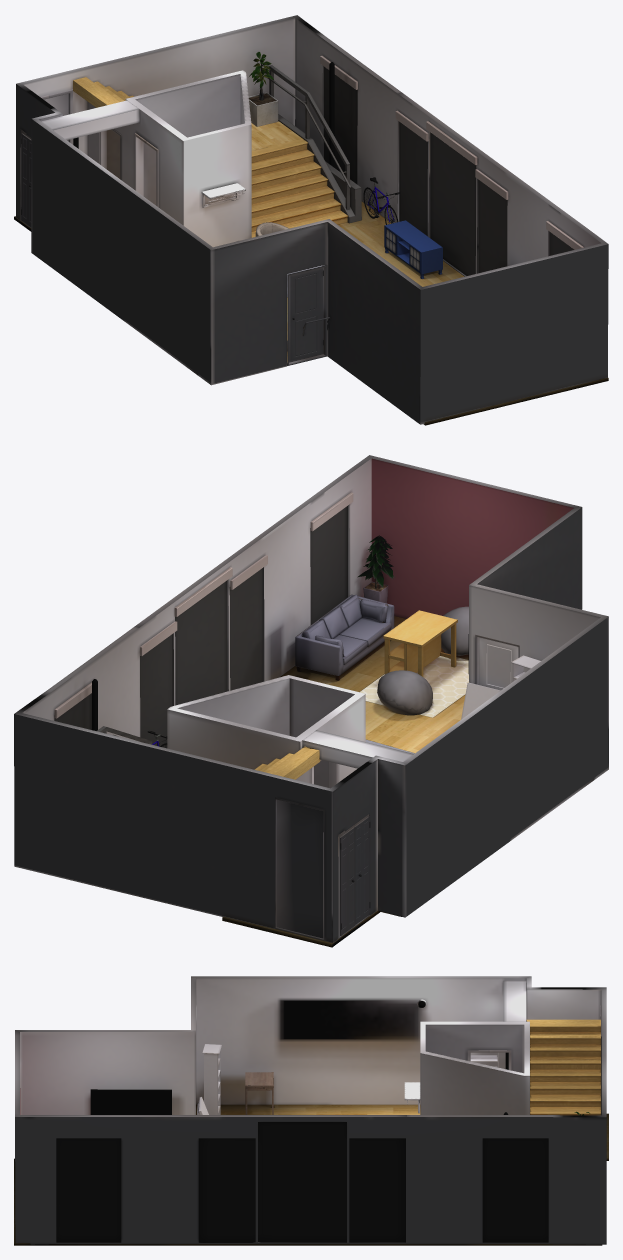
The model's file is google_pick_coke_can_1_v4.glb.
3 renders of one model, top to bottom at view 1: azimuth 30°, elevation 25°; view 2: azimuth 150°, elevation 25°; view 3: azimuth 270°, elevation 25°, orthographic. The views are drawn at different scales.
Visible parts, largest first — view 1: frl_apartment_wall_arch.001, frl_apartment_blinds, frl_apartment_stair, frl_apartment_floor, frl_apartment_door_01, frl_apartment_tvstand, frl_apartment_indoor_plant_01, frl_apartment_door_05, frl_apartment_door_part_03, frl_apartment_door_part_04, frl_apartment_bike_01, frl_apartment_clothes_hanger_02 (+1 smaller); view 2: frl_apartment_wall_arch.001, frl_apartment_blinds, frl_apartment_door_04, frl_apartment_floor, frl_apartment_sofa, frl_apartment_table_02, frl_apartment_rug_01, frl_apartment_beanbag_01, frl_apartment_door_01, frl_apartment_door_05, frl_apartment_door_06, frl_apartment_stair (+4 smaller); view 3: frl_apartment_wall_arch.001, frl_apartment_blinds, frl_apartment_stair, frl_apartment_floor, frl_apartment_tv_screen, frl_apartment_wall_cabinet_01, frl_apartment_table_01.
Boxes of the visible parts, left/top/right/bottom form: frl_apartment_wall_arch.001: left=16, top=15, right=608, bottom=424; frl_apartment_blinds: left=320, top=56, right=583, bottom=275; frl_apartment_stair: left=73, top=65, right=361, bottom=237; frl_apartment_floor: left=14, top=201, right=608, bottom=425; frl_apartment_door_01: left=289, top=267, right=323, bottom=362; frl_apartment_tvstand: left=384, top=220, right=442, bottom=278; frl_apartment_indoor_plant_01: left=248, top=52, right=278, bottom=126; frl_apartment_door_05: left=21, top=133, right=31, bottom=226; frl_apartment_door_part_03: left=287, top=265, right=327, bottom=365; frl_apartment_door_part_04: left=135, top=133, right=158, bottom=207; frl_apartment_bike_01: left=363, top=177, right=400, bottom=224; frl_apartment_clothes_hanger_02: left=201, top=183, right=245, bottom=207; frl_apartment_wall_arch.001: left=14, top=455, right=608, bottom=943; frl_apartment_blinds: left=54, top=492, right=353, bottom=748; frl_apartment_door_04: left=276, top=800, right=323, bottom=938; frl_apartment_floor: left=222, top=616, right=468, bottom=947; frl_apartment_sofa: left=295, top=594, right=394, bottom=680; frl_apartment_table_02: left=383, top=610, right=457, bottom=676; frl_apartment_rug_01: left=359, top=656, right=468, bottom=717; frl_apartment_beanbag_01: left=377, top=670, right=432, bottom=715; frl_apartment_door_01: left=479, top=637, right=518, bottom=690; frl_apartment_door_05: left=340, top=827, right=355, bottom=935; frl_apartment_door_06: left=354, top=816, right=370, bottom=924; frl_apartment_stair: left=97, top=726, right=320, bottom=779; frl_apartment_wall_arch.001: left=15, top=976, right=606, bottom=1244; frl_apartment_blinds: left=56, top=1122, right=548, bottom=1242; frl_apartment_stair: left=526, top=1019, right=600, bottom=1115; frl_apartment_floor: left=14, top=1104, right=608, bottom=1245; frl_apartment_tv_screen: left=90, top=1089, right=171, bottom=1114; frl_apartment_wall_cabinet_01: left=202, top=1044, right=221, bottom=1114; frl_apartment_table_01: left=245, top=1072, right=273, bottom=1114.
Size of the model in its own units: 7.26 by 3.21 by 12.93.
Materials: 1 (1 with a texture image).
